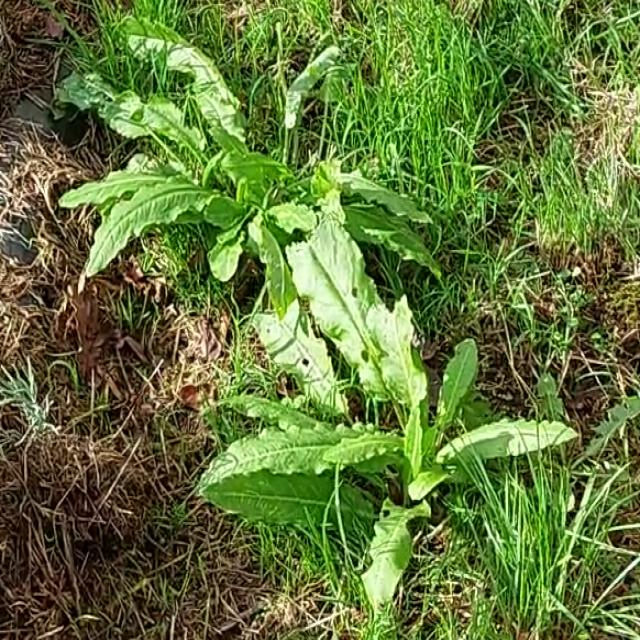organic waste: (42, 13, 470, 341), (196, 227, 575, 597)
